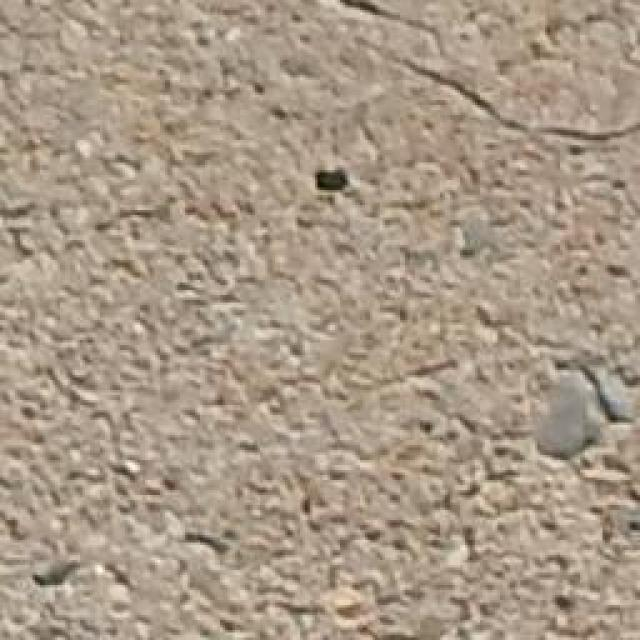concrete-crack: (334, 0, 640, 152), (527, 347, 639, 441), (315, 170, 350, 192)
